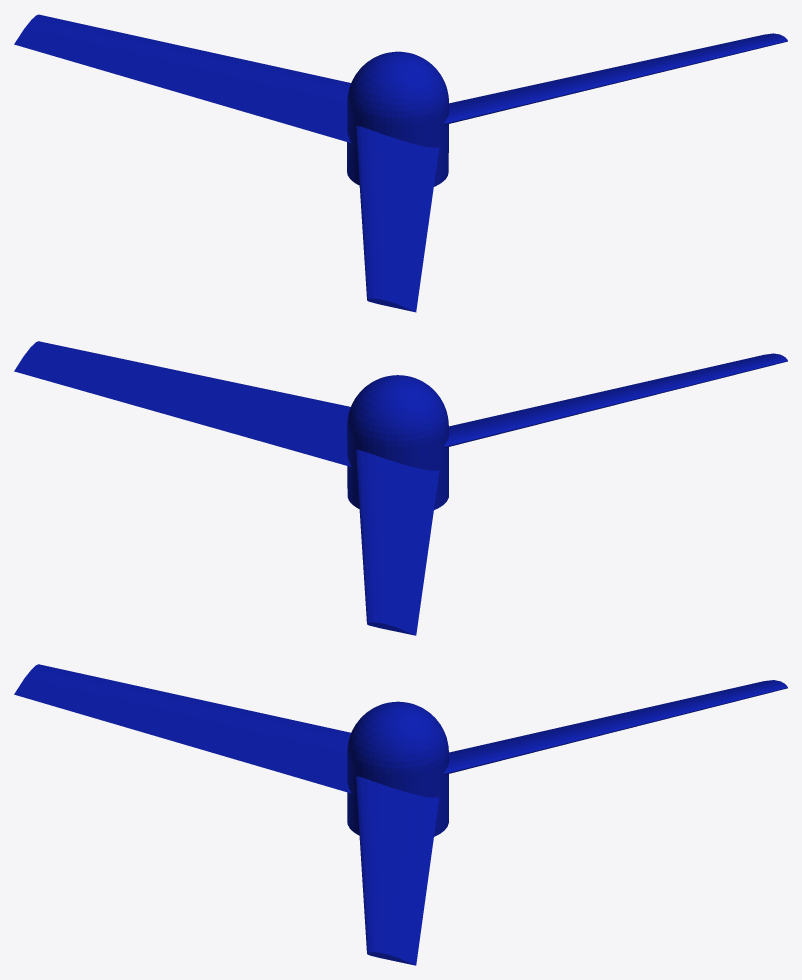
File: propp.dae
3 views of the same model, one above another, from view 1: azimuth 30°, elevation 25°; view 2: azimuth 150°, elevation 25°; view 3: azimuth 270°, elevation 25° (orthographic).
Visible parts, largest first — view 1: Proppeller5; view 2: Proppeller5; view 3: Proppeller5.
Boxes of the visible parts, x1,y1,x2,y2 form: Proppeller5: [14, 14, 787, 312]; Proppeller5: [14, 341, 787, 635]; Proppeller5: [14, 664, 787, 965].
Size of the model in its own units: 0.2656 by 0.3041 by 0.0501.
